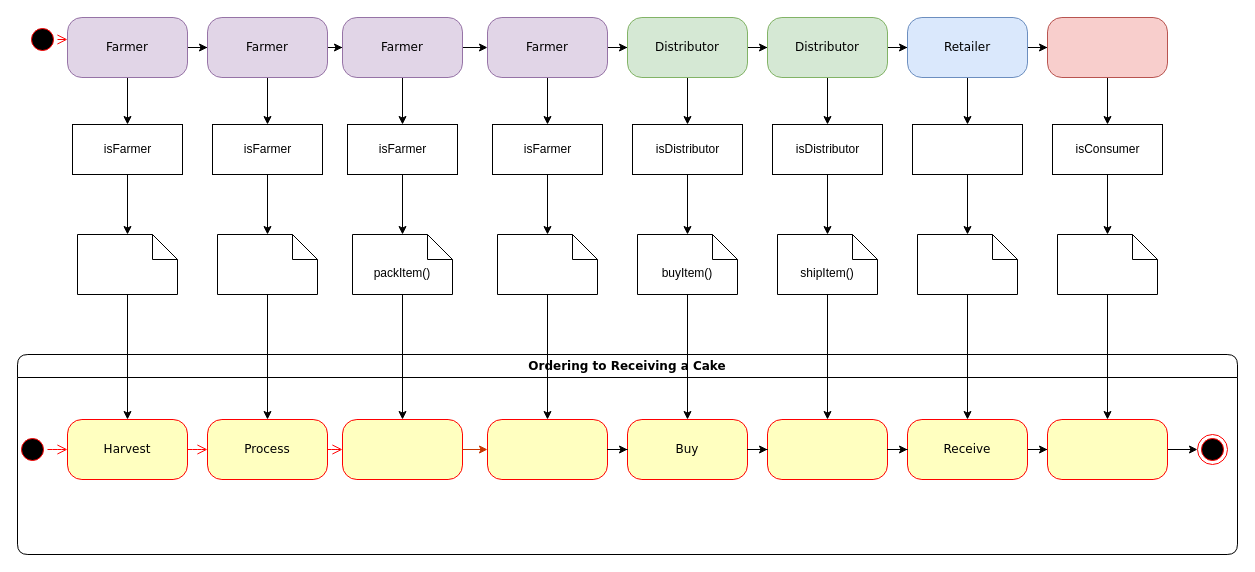
This 1255x572 diagram has some shape labels left out. The centre of each missing label's shape, as x and y in pixels:
"Consumer" goes at (x=1107, y=47).
"harvestItem()" goes at (x=127, y=264).
"isRetailer" goes at (x=967, y=149).
"Pack" goes at (x=402, y=449).
"processItem()" goes at (x=267, y=264).
"Purchase" goes at (x=1107, y=449).
"purchaseItem()" goes at (x=1107, y=264).
"receiveItem()" goes at (x=967, y=264).
"Sell" goes at (x=547, y=449).
"sellItem()" goes at (x=547, y=264).
"Ship" goes at (x=827, y=449).
